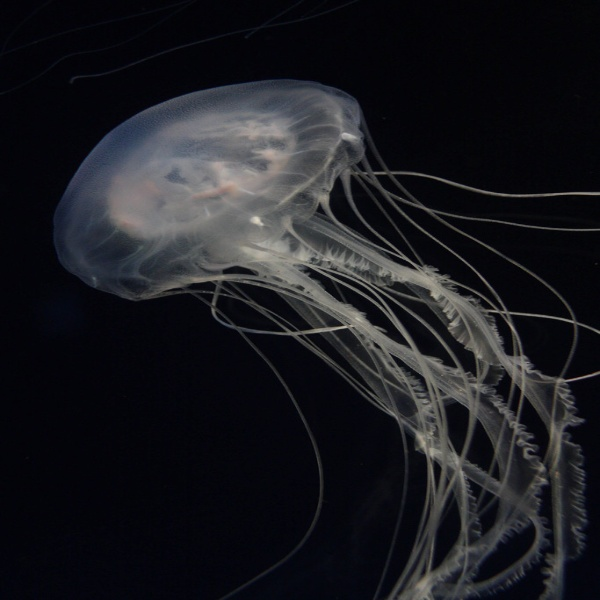Jellyfish: (47, 75, 599, 597)
